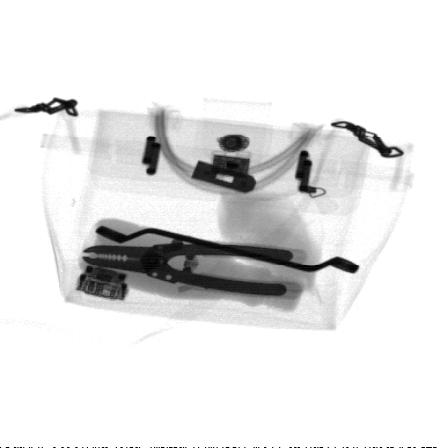Pliers: (83, 242, 294, 297)
Wrench: (93, 224, 362, 275)
